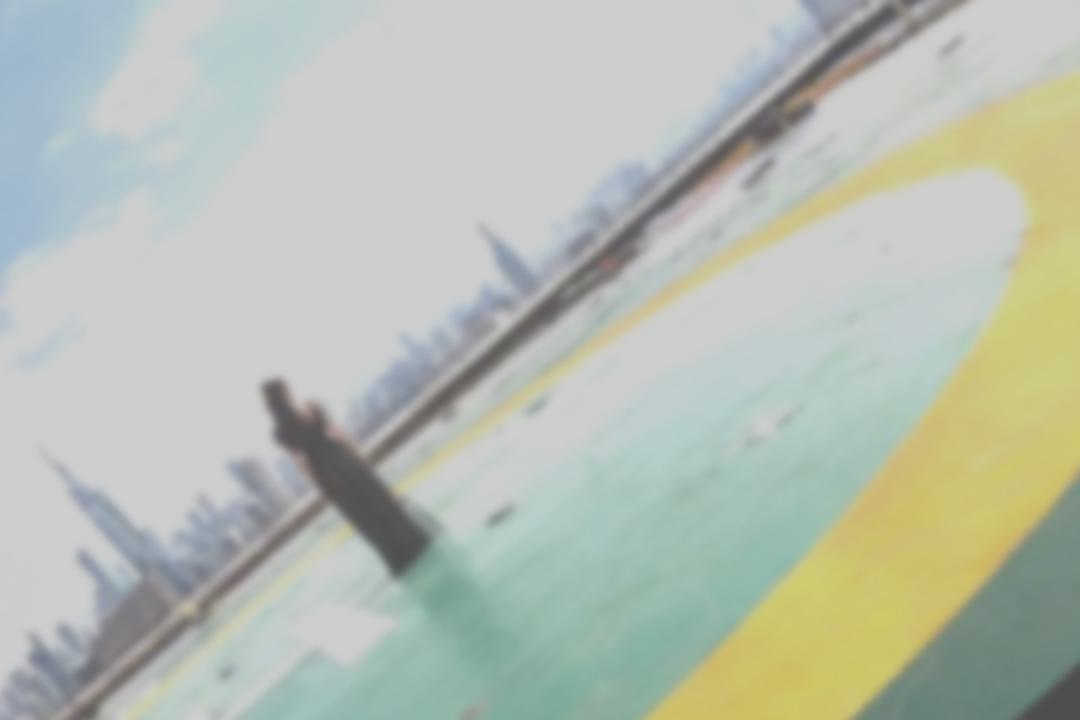Apron: (97, 329, 1062, 702)
